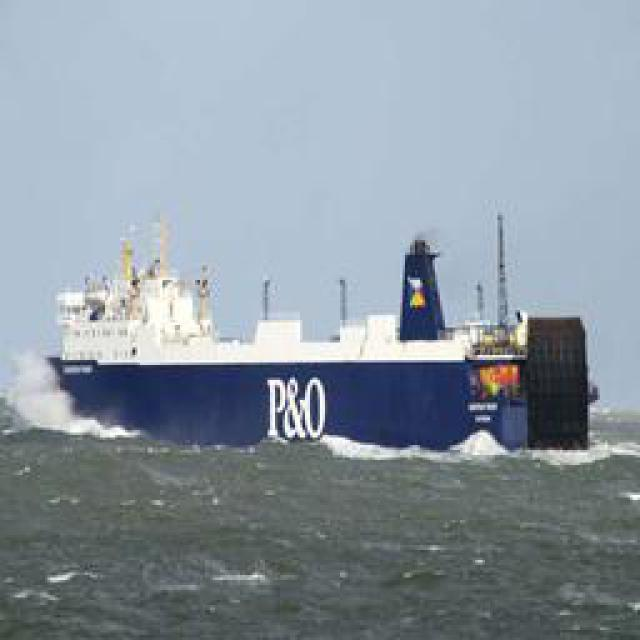Ship: (44, 204, 594, 447)
